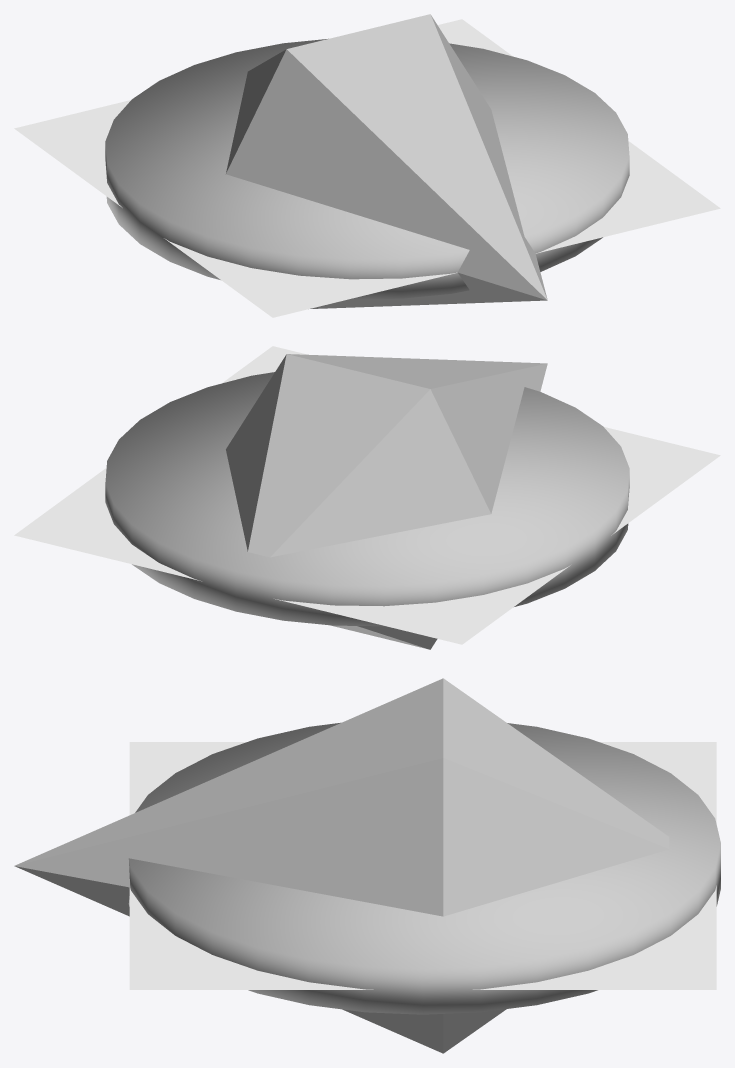
The model's file is CoinPowerups.fbx.
3 views of the same model, one above another, from view 1: azimuth 30°, elevation 25°; view 2: azimuth 150°, elevation 25°; view 3: azimuth 270°, elevation 25° (orthographic). The views are drawn at different scales.
Visible parts, largest first — view 1: RunFast, Diamond, ProgressMask; view 2: RunFast, Diamond, ProgressMask; view 3: Diamond, RunFast, ProgressMask.
Boxes of the visible parts, <box> form: RunFast: <box>105,38,629,299</box>; Diamond: <box>226,14,547,308</box>; ProgressMask: <box>14,19,720,317</box>; RunFast: <box>105,372,629,626</box>; Diamond: <box>226,354,547,649</box>; ProgressMask: <box>14,346,720,644</box>; Diamond: <box>14,678,669,1053</box>; RunFast: <box>128,722,720,1014</box>; ProgressMask: <box>129,742,716,989</box>.
Size of the model in its own units: 0.3247 by 0.1779 by 0.3853.
